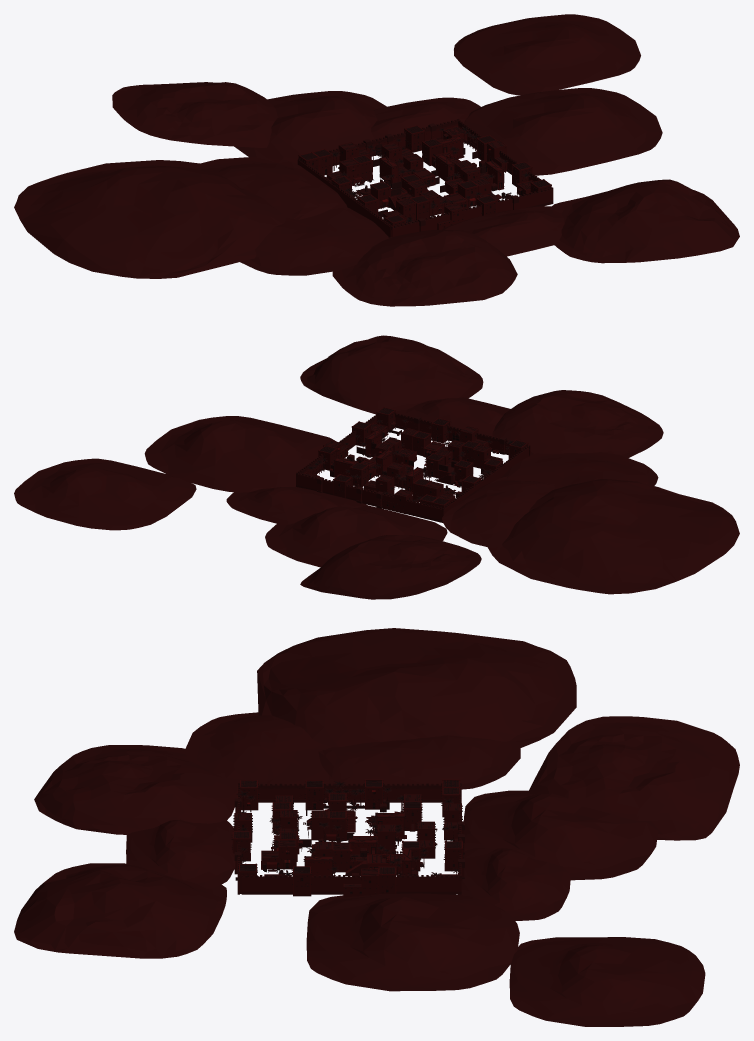
Rendered from deserto.glb.
3 views of the same model, one above another, from view 1: azimuth 30°, elevation 25°; view 2: azimuth 150°, elevation 25°; view 3: azimuth 270°, elevation 25° (orthographic). The views are drawn at different scales.
Parts seen in each view (by area): view 1: Hill_04_382, Hill_05_379, Hill_02_374, Hill_05_381, Hill_03_375, Hill_03_383, Hill_04_211, Hill_05_378, Hill_04_377, Hill_05_212, Hill_05_210; view 2: Hill_04_382, Hill_05_379, Hill_02_374, Hill_05_381, Hill_03_375, Hill_03_383, Hill_05_378, Hill_04_377, Hill_04_211, Hill_05_210, Hill_05_212, House_04L_297-col; view 3: Hill_04_382, Hill_03_383, Hill_05_379, Hill_02_374, Hill_05_381, Hill_03_375, Hill_05_378, Hill_04_377, Hill_04_211, Hill_05_210, Hill_05_212, House_04R_597-col (+2 smaller).
Part boxes in pixels (x1,y1,x2,y2): Hill_04_382: [14, 160, 285, 278]; Hill_05_379: [464, 88, 662, 175]; Hill_02_374: [552, 179, 739, 263]; Hill_05_381: [454, 14, 640, 95]; Hill_03_375: [332, 230, 517, 306]; Hill_03_383: [112, 82, 277, 147]; Hill_04_211: [240, 207, 388, 275]; Hill_05_378: [234, 91, 386, 164]; Hill_04_377: [192, 157, 347, 219]; Hill_05_212: [442, 206, 564, 256]; Hill_05_210: [371, 97, 480, 140]; Hill_04_382: [488, 479, 739, 594]; Hill_05_379: [144, 416, 337, 492]; Hill_02_374: [300, 335, 483, 414]; Hill_05_381: [14, 458, 196, 530]; Hill_03_375: [492, 390, 663, 457]; Hill_03_383: [300, 535, 481, 599]; Hill_05_378: [265, 505, 447, 567]; Hill_04_377: [442, 476, 555, 547]; Hill_04_211: [500, 452, 658, 488]; Hill_05_210: [226, 486, 367, 524]; Hill_05_212: [395, 397, 510, 437]; House_04L_297-col: [382, 489, 412, 514]; Hill_04_382: [257, 628, 576, 747]; Hill_03_383: [529, 716, 739, 840]; Hill_05_379: [306, 893, 519, 991]; Hill_02_374: [14, 863, 226, 958]; Hill_05_381: [509, 937, 705, 1026]; Hill_03_375: [34, 745, 237, 834]; Hill_05_378: [463, 790, 657, 880]; Hill_04_377: [318, 735, 520, 789]; Hill_04_211: [185, 712, 331, 790]; Hill_05_210: [458, 848, 570, 920]; Hill_05_212: [126, 819, 235, 888]; House_04R_597-col: [261, 839, 296, 869].
Bounding box in the file's own units: 260 × 17.75 × 208.
Materials: 1 (1 with a texture image).
